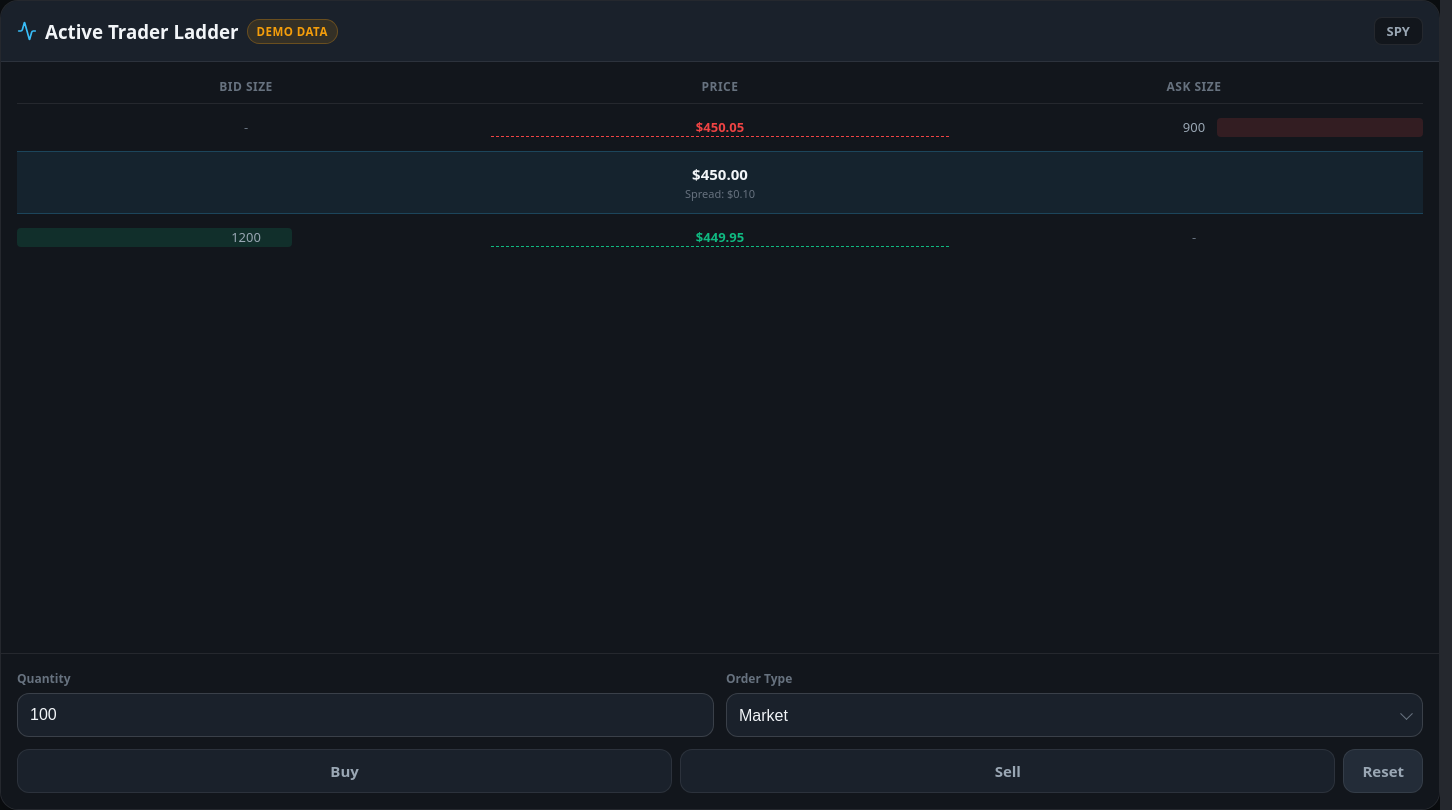
Test case: ActiveTraderLadder — trade panel › Sell with a ladder-picked limit price composes a limit-order command at that price
Click the button with test id "ladder-ask-price-0".
click(720, 128)  # box top-left (491, 118), bottom-right (949, 137)
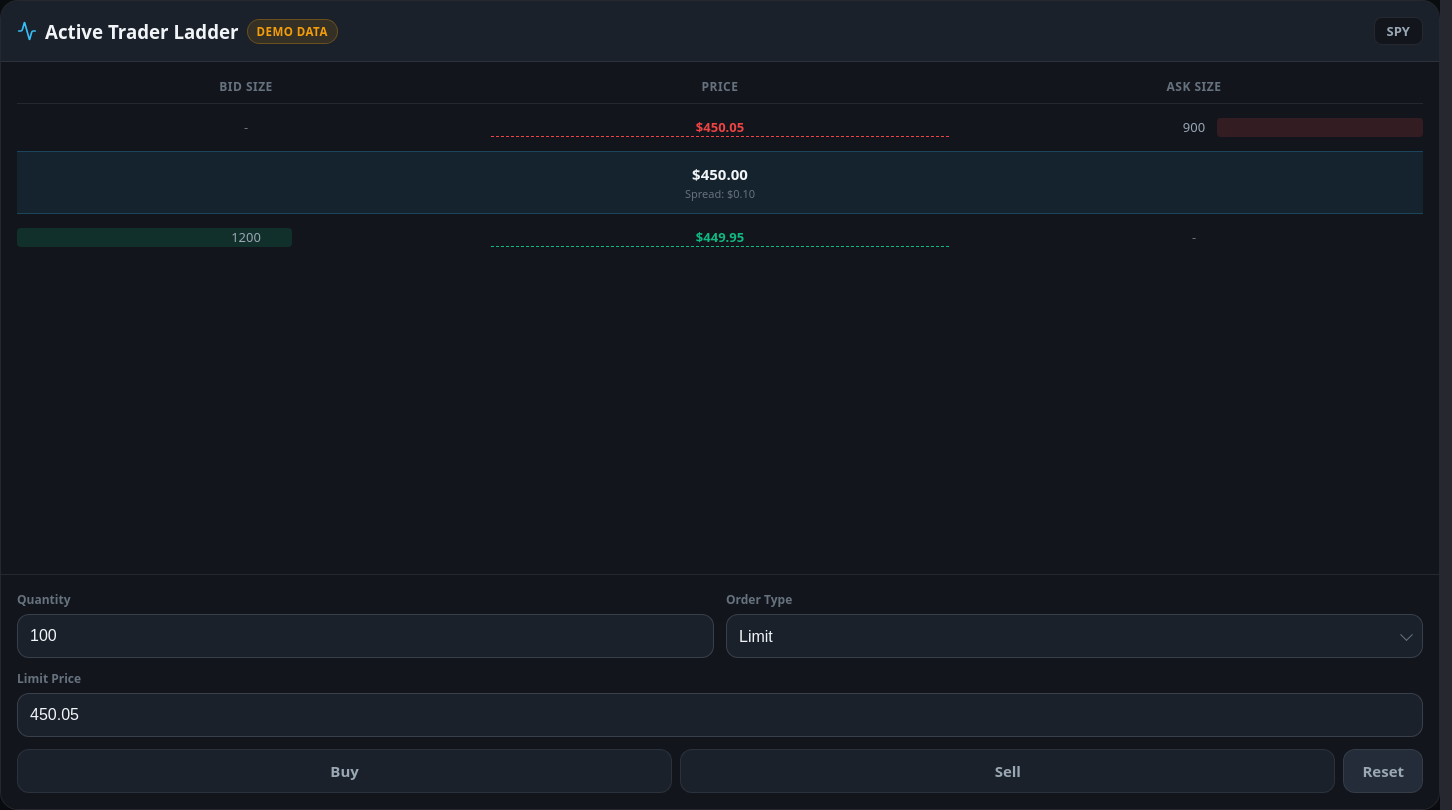
Click the button with test id "ladder-sell-button".
click(1008, 771)  # box top-left (680, 749), bottom-right (1335, 793)
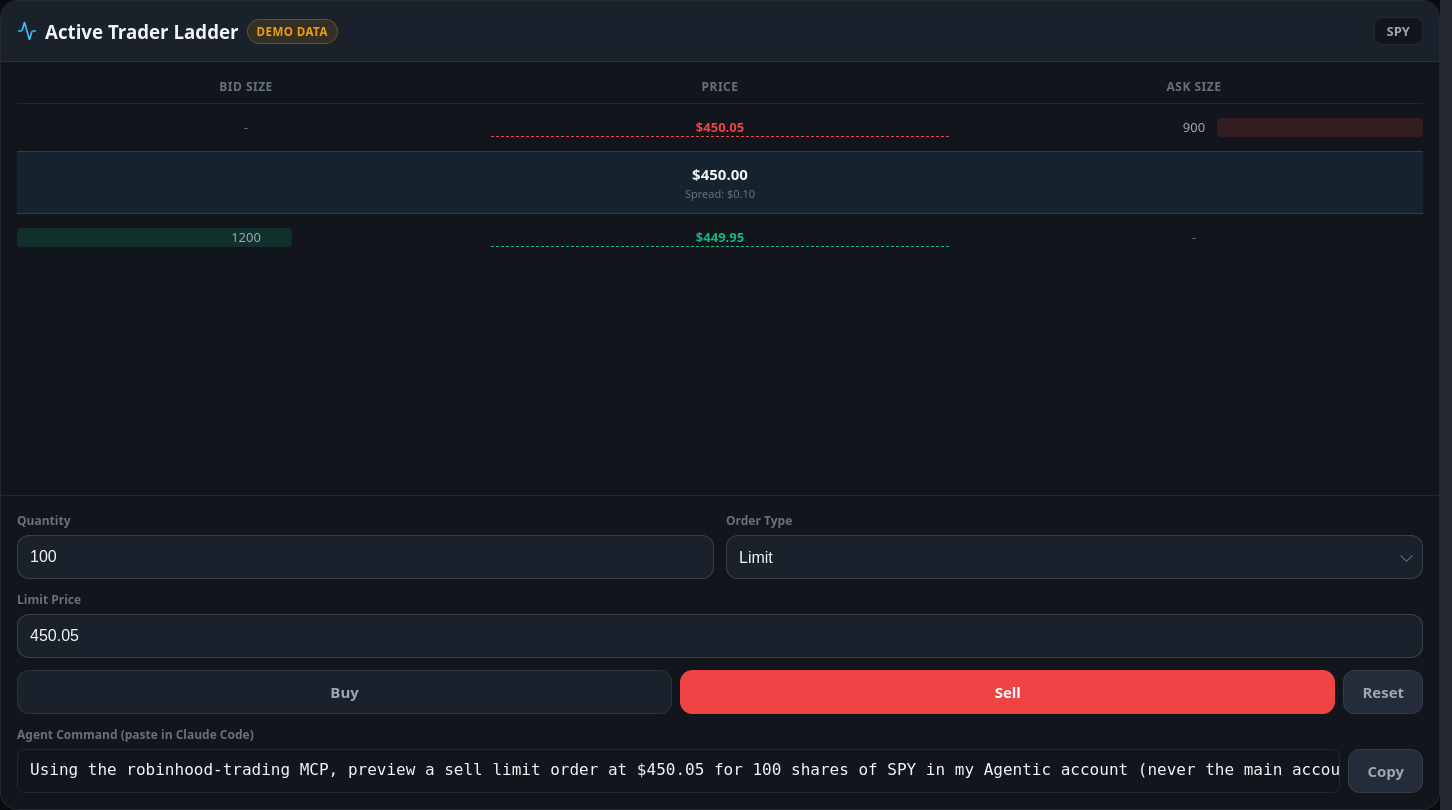
Now the text with test id "ladder-order-command-composed" shows "sell limit order at $450.05 for 100 shares of SPY", box top-left (30, 760), bottom-right (1440, 779)
